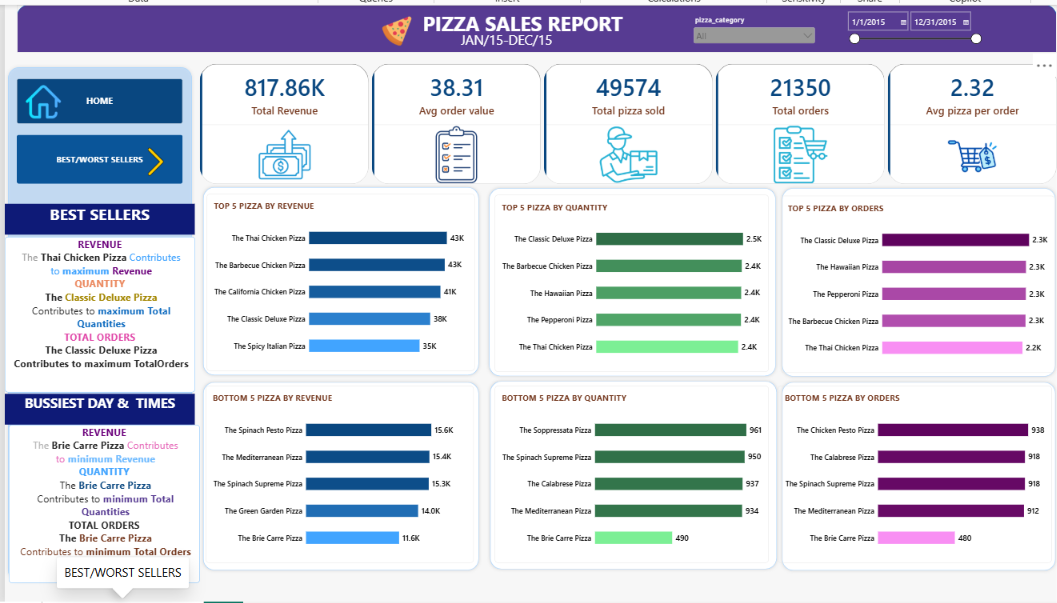

The page's visual inventory and layout, read from the dashboard file:
{"tool":"powerbi","page":{"name":"BEST/WORST SELLERS","canvas":[2560,1440],"ordinal":1},"visuals":[{"type":"cardVisual","fields":{"Data":["pizza_db pizza_sales.Total Revenue","pizza_db pizza_sales.Avg order value","pizza_db pizza_sales.Total pizza sold","pizza_db pizza_sales.Total orders","pizza_db pizza_sales.Avg pizza per order"]},"box":[470,142.6,2070,290.4],"z":0},{"type":"shape","box":[29,0,2509.4,115.8],"z":1000},{"type":"textbox","box":[1008.4,13.2,580,92.3],"z":2000},{"type":"textbox","box":[1100.7,62.6,243.9,46.1],"z":3000},{"type":"image","box":[829,26.4,232.3,73.9],"z":4000},{"type":"shape","box":[470.5,431.9,681.2,470],"z":5000},{"type":"shape","box":[0,142.6,459.4,1256.8],"z":15000},{"type":"textbox","box":[0,480.2,458.4,74.8],"z":16000},{"type":"textbox","box":[0,559.7,459.4,374.9],"z":17000},{"type":"textbox","box":[0,938.6,458.4,74.8],"z":18000},{"type":"textbox","box":[9.7,1013.4,460.9,381.2],"z":19000},{"type":"slicer","fields":{"Values":["pizza_db pizza_sales.pizza_category"]},"box":[1657.6,26.5,301.6,74.8],"z":20000},{"type":"slicer","fields":{"Values":["pizza_db pizza_sales.order_date"]},"box":[2026.8,12.1,333,89.3],"z":21000},{"type":"shape","box":[1160.6,434.3,707.6,470],"z":21001},{"type":"shape","box":[1867.6,434.3,675.6,470.5],"z":21002},{"type":"shape","box":[470.5,902.4,681.2,470],"z":21003},{"type":"shape","box":[1163,900,707.6,470],"z":21004},{"type":"shape","box":[1867.6,902.4,675.6,470.5],"z":21005},{"type":"barChart","title":"TOP 5 PIZZA BY REVENUE","fields":{"Category":["pizza_db pizza_sales.pizza_name"],"Y":["pizza_db pizza_sales.Total Revenue"]},"box":[487.4,456,646.7,427.1],"z":21006},{"type":"barChart","title":"BOTTOM 5 PIZZA BY REVENUE","fields":{"Category":["pizza_db pizza_sales.pizza_name"],"Y":["pizza_db pizza_sales.Total Revenue"]},"box":[485.8,918.8,646.7,427.1],"z":21007},{"type":"barChart","title":"TOP 5 PIZZA BY QUANTITY","fields":{"Category":["pizza_db pizza_sales.pizza_name"],"Y":["pizza_db pizza_sales.Total pizza sold"]},"box":[1182.3,458.4,661.1,427.1],"z":21008},{"type":"barChart","title":"BOTTOM 5 PIZZA BY QUANTITY","fields":{"Category":["pizza_db pizza_sales.pizza_name"],"Y":["pizza_db pizza_sales.Total pizza sold"]},"box":[1182.9,919.4,661.1,427.1],"z":21009},{"type":"barChart","title":"TOP 5 PIZZA BY  ORDERS","fields":{"Category":["pizza_db pizza_sales.pizza_name"],"Y":["pizza_db pizza_sales.Total orders"]},"box":[1871.7,461.1,661.1,427.1],"z":21010},{"type":"barChart","title":"BOTTOM 5 PIZZA BY ORDERS","fields":{"Category":["pizza_db pizza_sales.pizza_name"],"Y":["pizza_db pizza_sales.Total orders"]},"box":[1864,918.8,661.1,427.1],"z":21011},{"type":"pageNavigator","box":[29,178.6,400.5,108.6],"z":21012},{"type":"pageNavigator","box":[29,313.7,400.5,118.2],"z":21013},{"type":"image","box":[323.3,345,82,67.6],"z":21014},{"type":"image","box":[50.7,166.5,84.5,135.1],"z":21015}]}

Visuals, with their boxes on the page's 2560x1440 design canvas (x1, y1, x2, y2). These are canvas units, not pixel positions in the 1057x603 screenshot, which may show the page scaled, cropped or inside an application window:
cardVisual - pizza_db pizza_sales.Total Revenue x pizza_db pizza_sales.Avg order value: region(470, 143, 2540, 433)
shape: region(29, 0, 2538, 116)
textbox: region(1008, 13, 1588, 106)
textbox: region(1101, 63, 1345, 109)
image: region(829, 26, 1061, 100)
shape: region(470, 432, 1152, 902)
shape: region(0, 143, 459, 1399)
textbox: region(0, 480, 458, 555)
textbox: region(0, 560, 459, 935)
textbox: region(0, 939, 458, 1013)
textbox: region(10, 1013, 471, 1395)
slicer - pizza_db pizza_sales.pizza_category: region(1658, 26, 1959, 101)
slicer - pizza_db pizza_sales.order_date: region(2027, 12, 2360, 101)
shape: region(1161, 434, 1868, 904)
shape: region(1868, 434, 2543, 905)
shape: region(470, 902, 1152, 1372)
shape: region(1163, 900, 1871, 1370)
shape: region(1868, 902, 2543, 1373)
"TOP 5 PIZZA BY REVENUE" barChart: region(487, 456, 1134, 883)
"BOTTOM 5 PIZZA BY REVENUE" barChart: region(486, 919, 1132, 1346)
"TOP 5 PIZZA BY QUANTITY" barChart: region(1182, 458, 1843, 886)
"BOTTOM 5 PIZZA BY QUANTITY" barChart: region(1183, 919, 1844, 1346)
"TOP 5 PIZZA BY  ORDERS" barChart: region(1872, 461, 2533, 888)
"BOTTOM 5 PIZZA BY ORDERS" barChart: region(1864, 919, 2525, 1346)
pageNavigator: region(29, 179, 430, 287)
pageNavigator: region(29, 314, 430, 432)
image: region(323, 345, 405, 413)
image: region(51, 166, 135, 302)
